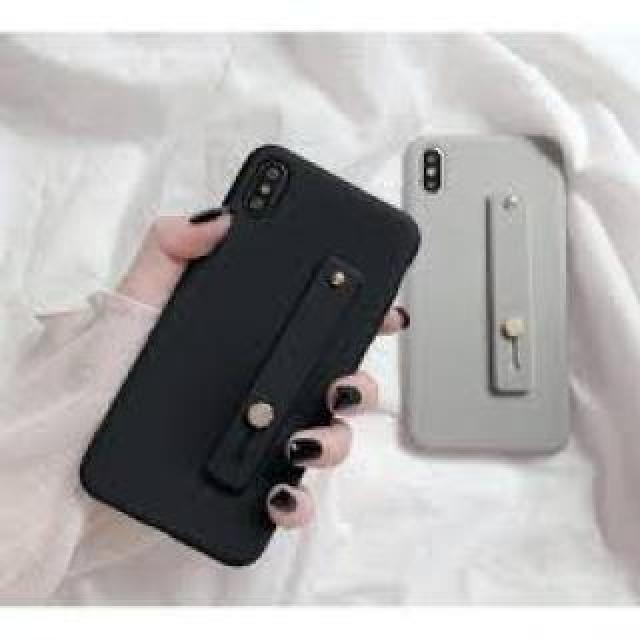smart phone: (101, 127, 402, 563), (386, 110, 582, 497)
